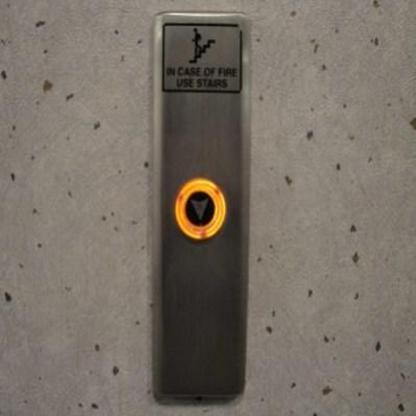down: (174, 177, 226, 239)
